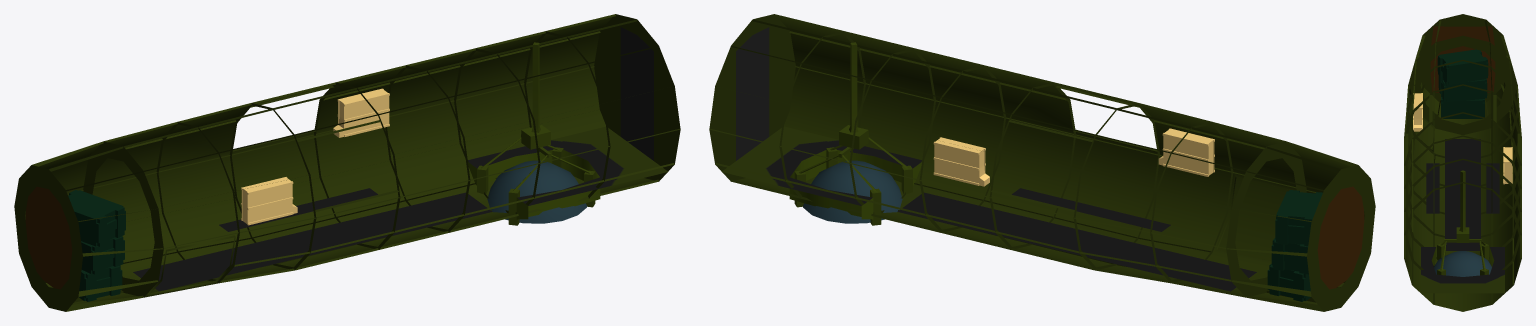
File: InteriorPlane.fbx
The picture shows the model from 3 angles, left to right: view 1: azimuth 30°, elevation 25°; view 2: azimuth 150°, elevation 25°; view 3: azimuth 270°, elevation 25°; orthographic projection. The views are drawn at different scales.
Parts seen in each view (by area): view 1: interior, interiorSupport, Platform, SphereTurretDisarm, Box, AmmunitionBoxes, Blanquet, SphereTurretAxis; view 2: interior, interiorSupport, Platform, SphereTurretDisarm, AmmunitionBoxes, Box, Blanquet, SphereTurretAxis; view 3: interiorSupport, interior, Platform, Box, Blanquet, SphereTurretDisarm, AmmunitionBoxes, SphereTurretAxis.
Part boxes in pixels (<box>): interior: <box>25,14,680,304</box>; interiorSupport: <box>14,14,680,311</box>; Platform: <box>133,126,668,291</box>; SphereTurretDisarm: <box>477,137,595,225</box>; Box: <box>68,190,125,301</box>; AmmunitionBoxes: <box>241,88,389,225</box>; Blanquet: <box>25,186,72,289</box>; SphereTurretAxis: <box>521,42,551,157</box>; interior: <box>709,14,1364,304</box>; interiorSupport: <box>709,14,1375,311</box>; Platform: <box>721,126,1256,291</box>; SphereTurretDisarm: <box>794,137,912,225</box>; AmmunitionBoxes: <box>933,128,1214,186</box>; Box: <box>1267,190,1322,301</box>; Blanquet: <box>1317,186,1364,289</box>; SphereTurretAxis: <box>838,42,868,157</box>; interiorSupport: <box>1404,14,1521,303</box>; interior: <box>1404,82,1521,311</box>; Platform: <box>1421,139,1504,293</box>; Box: <box>1437,49,1488,118</box>; Blanquet: <box>1430,26,1495,92</box>; SphereTurretDisarm: <box>1434,241,1491,276</box>; AmmunitionBoxes: <box>1413,93,1512,184</box>; SphereTurretAxis: <box>1444,170,1481,242</box>.
Bounding box in the file's own units: 892 × 230 × 227.
